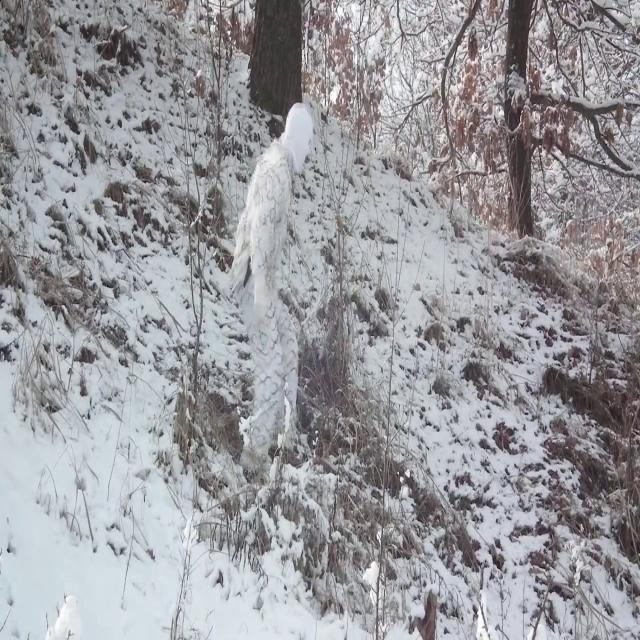Camouflage: (226, 102, 322, 484)
